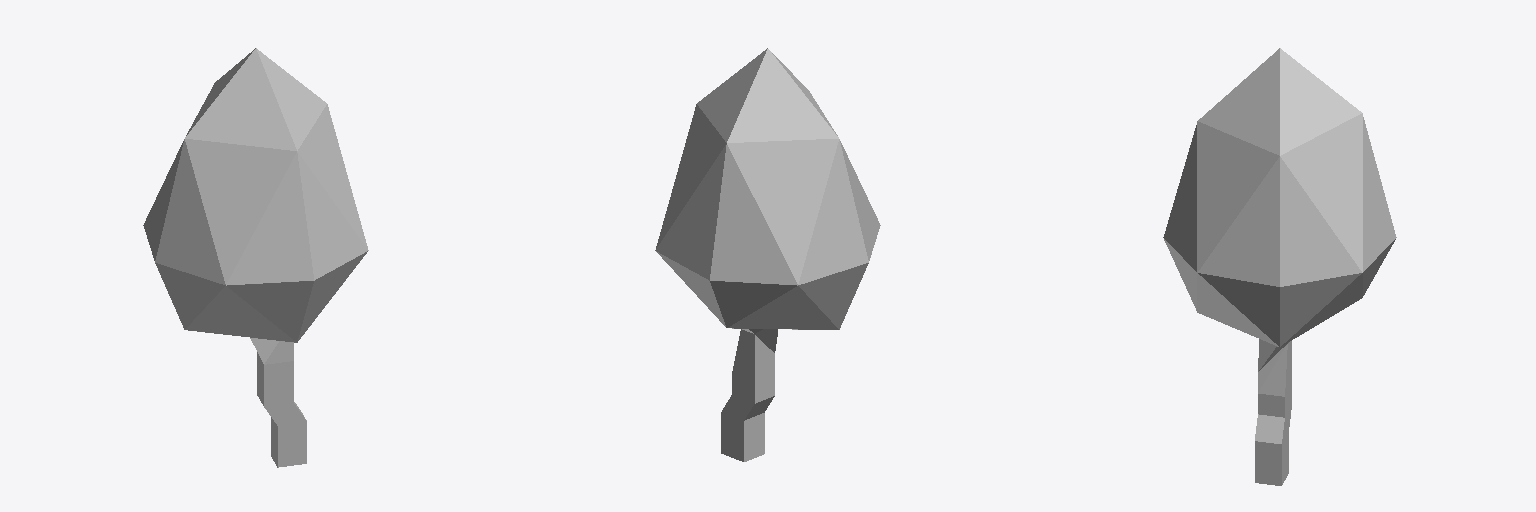
File: tree1.obj
The picture shows the model from 3 angles: view 1: azimuth 30°, elevation 25°; view 2: azimuth 150°, elevation 25°; view 3: azimuth 270°, elevation 25°; orthographic projection.
Visible parts, largest first — view 1: Tree_01_Mesh; view 2: Tree_01_Mesh; view 3: Tree_01_Mesh.
Boxes of the visible parts, x1=… form: Tree_01_Mesh: x1=143, y1=48, x2=368, y2=467; Tree_01_Mesh: x1=655, y1=48, x2=880, y2=461; Tree_01_Mesh: x1=1163, y1=48, x2=1396, y2=485.
Bounding box in the file's own units: 30.31 × 59.63 × 30.31.